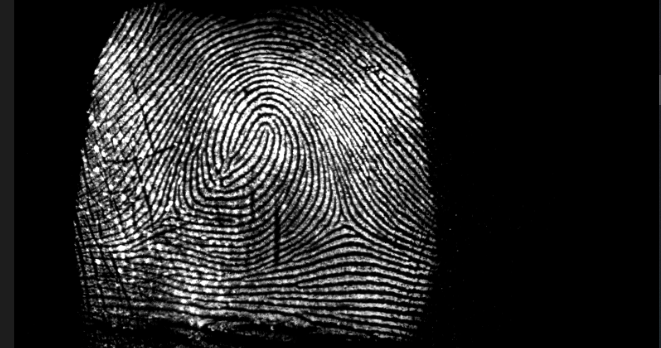nucelo: (249, 121, 276, 172)
verticilo: (155, 189, 188, 228), (328, 201, 358, 231)
